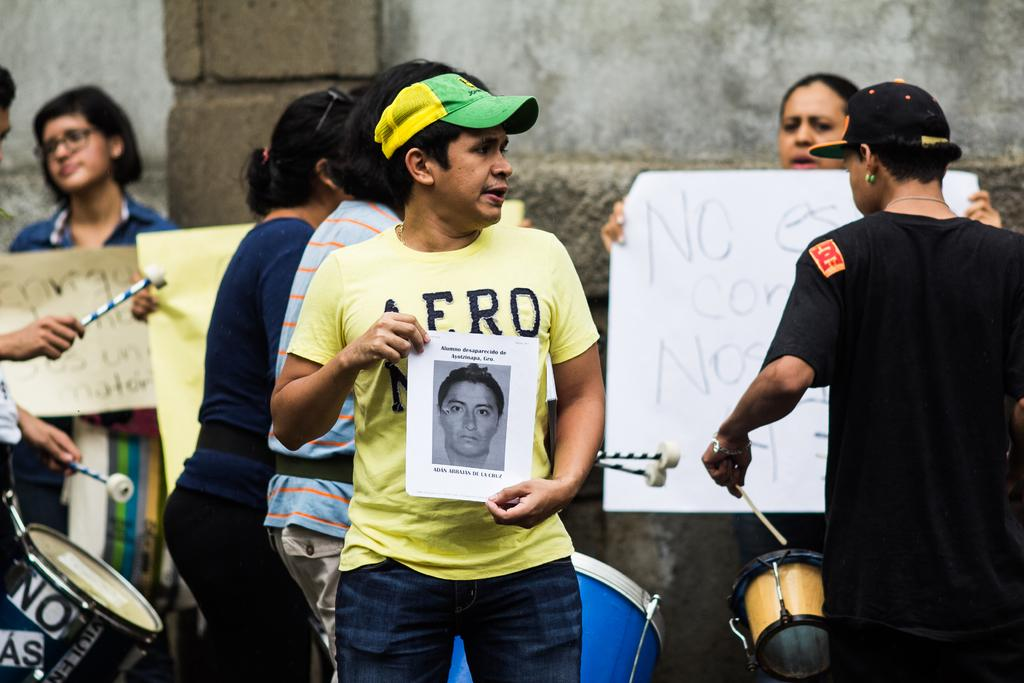Hat: (372, 73, 537, 163), (806, 74, 948, 160)
